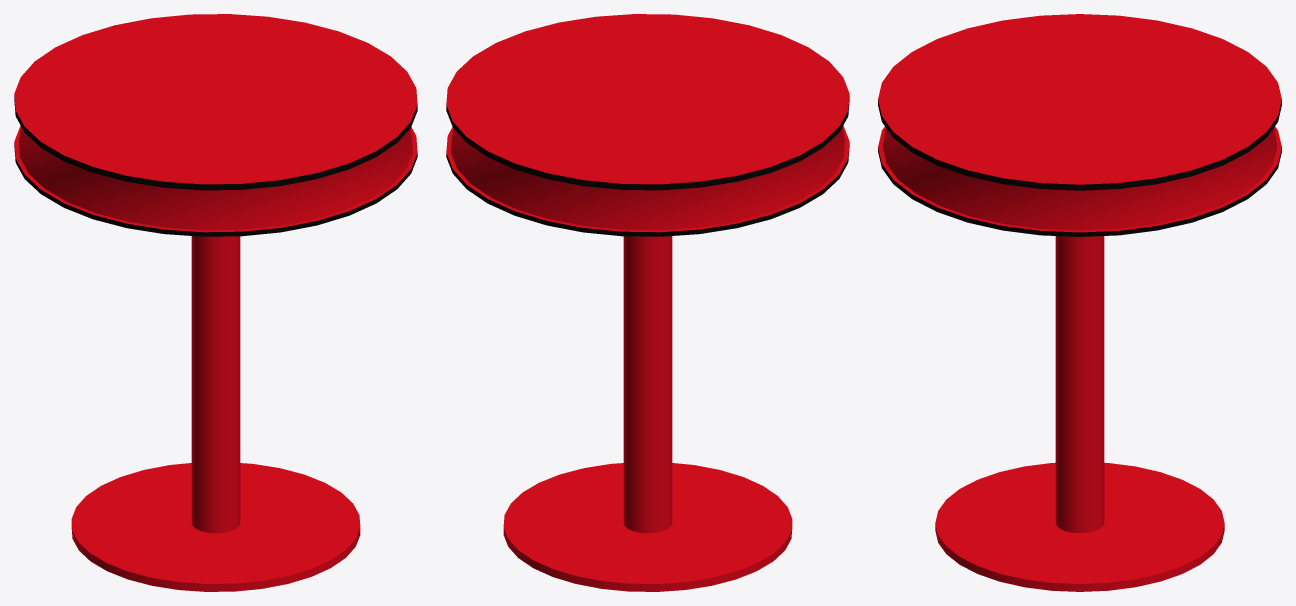
Rendered from Table.fbx.
The picture shows the model from 3 angles, left to right: view 1: azimuth 30°, elevation 25°; view 2: azimuth 150°, elevation 25°; view 3: azimuth 270°, elevation 25°; orthographic projection.
Visible parts, largest first — view 1: 柱体.003; view 2: 柱体.003; view 3: 柱体.003.
Part boxes in pixels (left/top/right/bottom): 柱体.003: left=14, top=14, right=417, bottom=591; 柱体.003: left=446, top=14, right=849, bottom=591; 柱体.003: left=878, top=14, right=1281, bottom=591.
Bounding box in the file's own units: 160 × 189 × 160.
